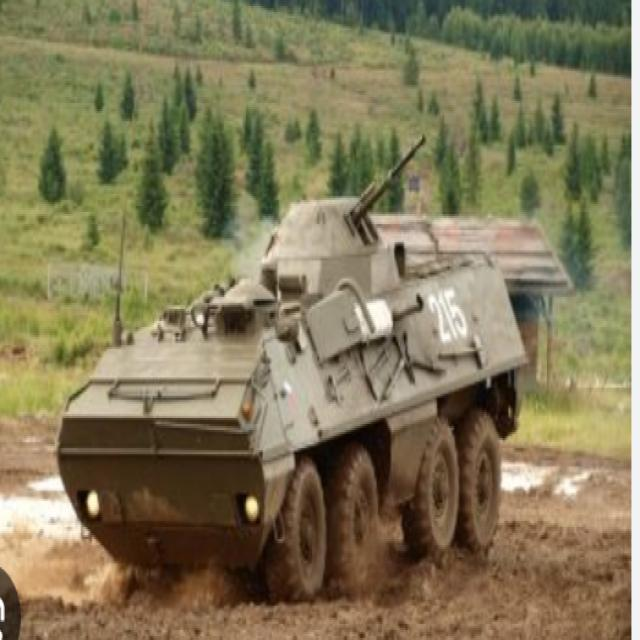MIL_APC: (56, 221, 533, 560)
